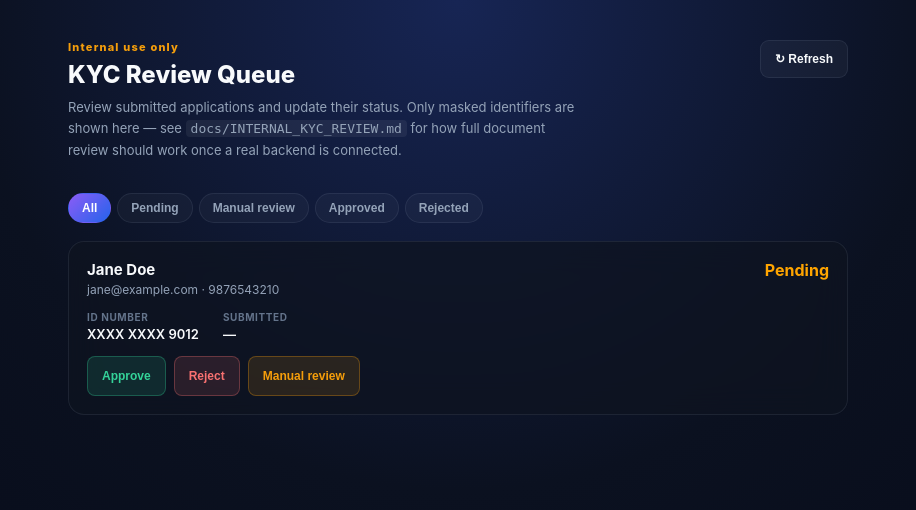
Test: KYCReviewScreen › lists a submitted application and lets a reviewer approve it
Expected: the text "Jane Doe" is shown, [87,260,155,279]
Expected: the text "XXXX XXXX 9012" is shown, [87,326,199,342]
Click the button "Approve": (126, 376) [87,356,166,396]
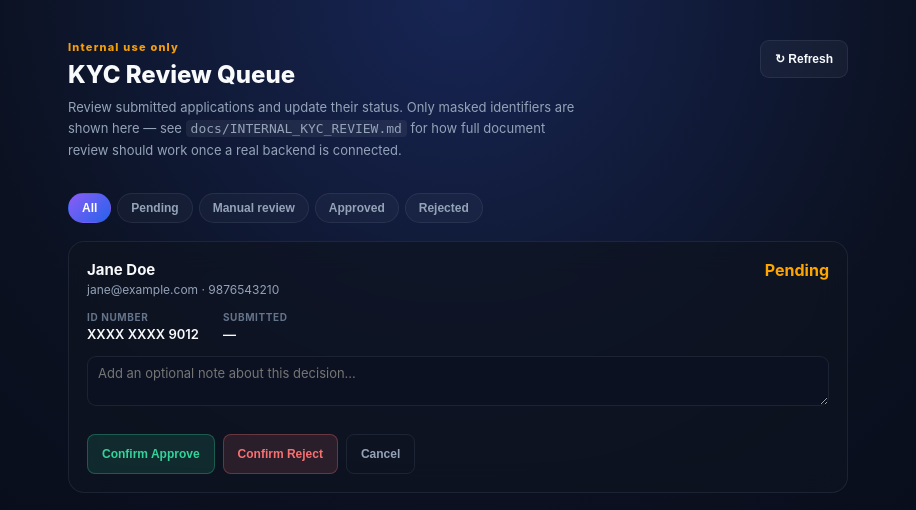
Click the button "Confirm Approve": (151, 454) [87,434,215,474]
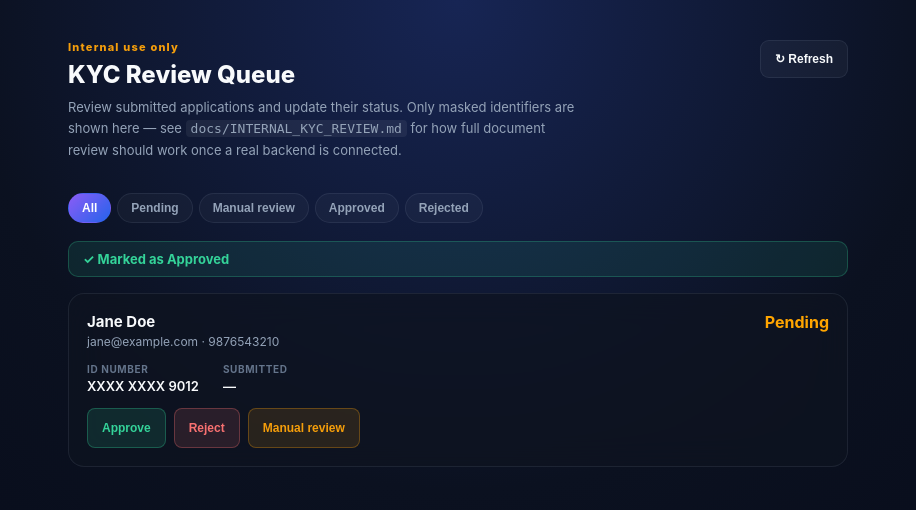
Now the text "✓ Marked as Approved" is shown, box [68,241,848,277]
